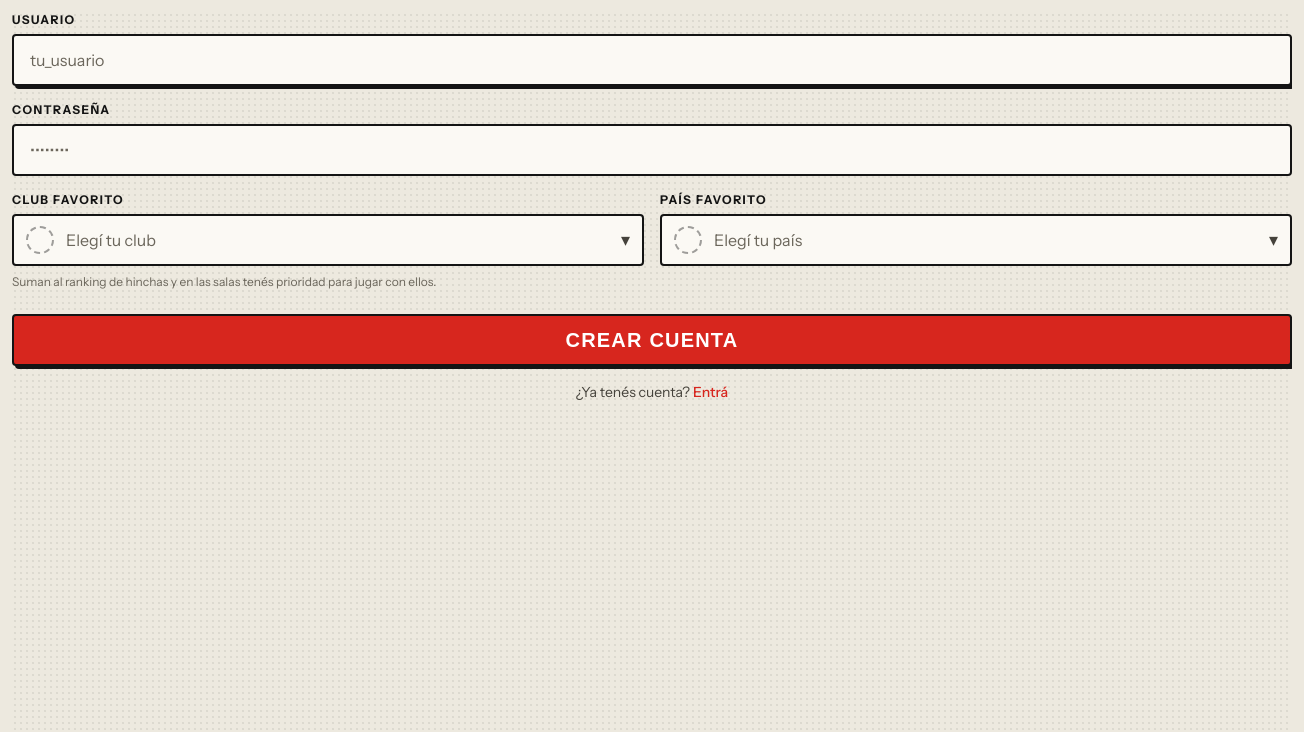
Test case: RegisterForm › usuario inválido: error de formato y no llama al alta
Type "ab" into the field labelled "Usuario" at (652, 60), box x1=12 y1=34 x2=1292 y2=86
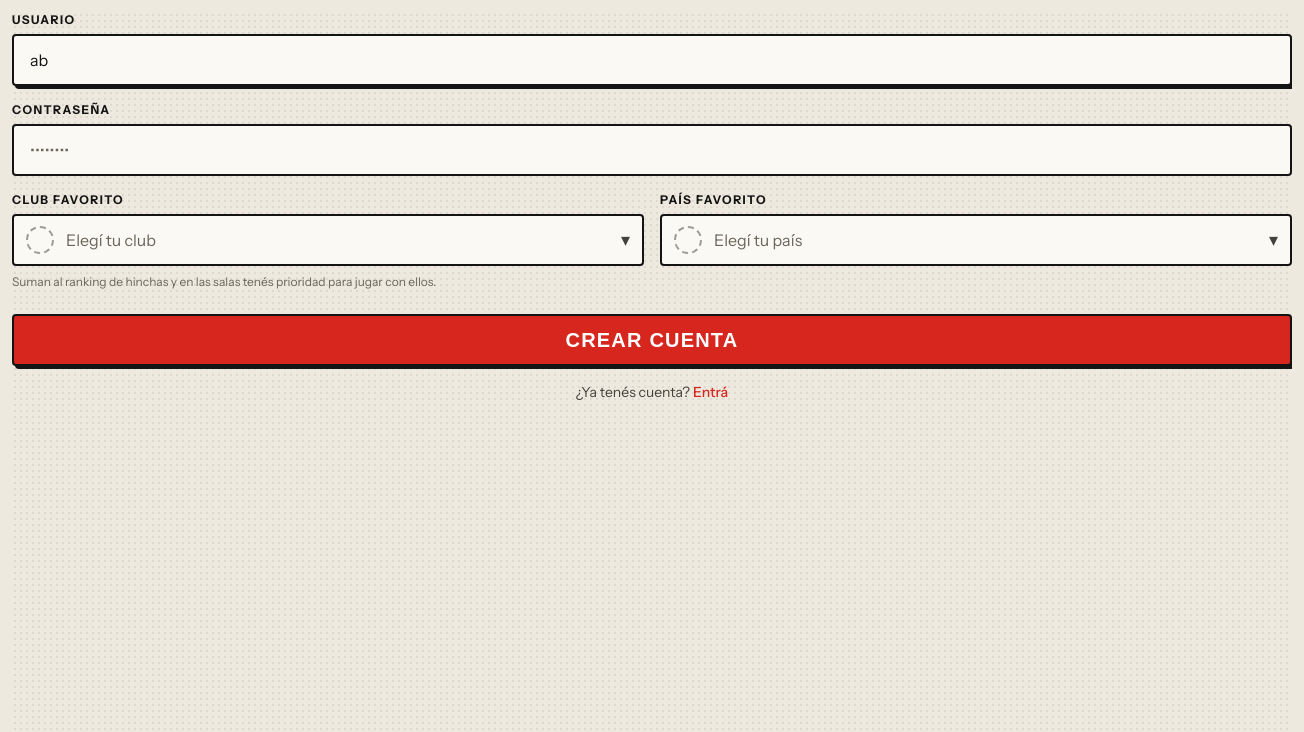
Type "secreta1" into the password field labelled "Contraseña" at (652, 150), box x1=12 y1=124 x2=1292 y2=176
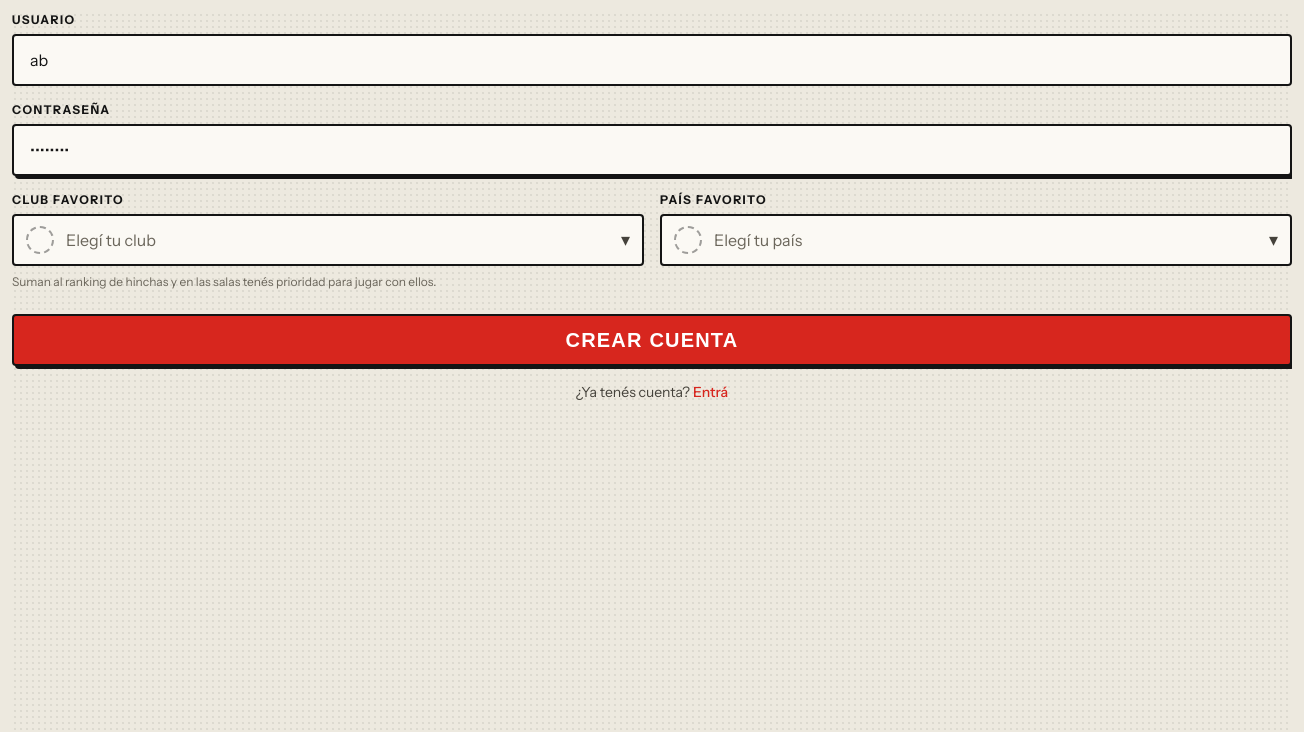
Click the button "Crear cuenta" at (652, 340), box x1=12 y1=314 x2=1292 y2=366
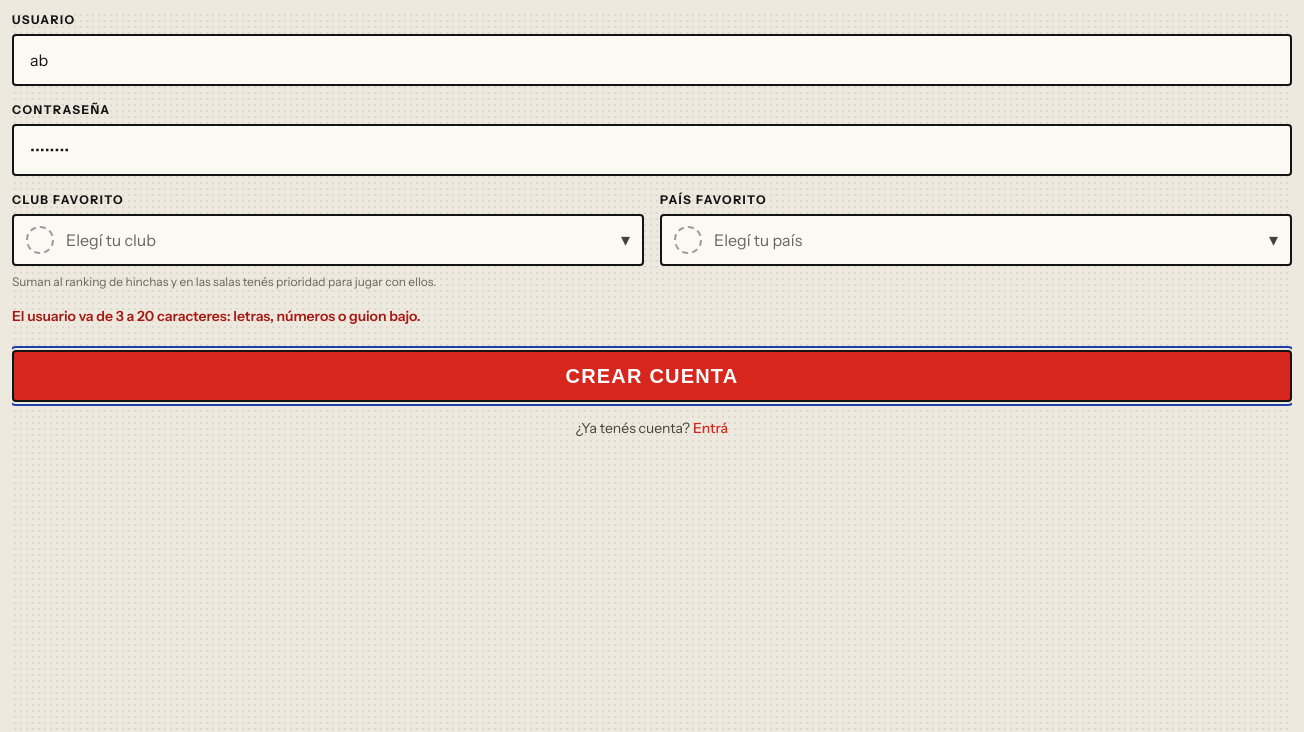
expect the text "de 3 a 20 caracteres" is shown: met, box x1=12 y1=307 x2=421 y2=325
